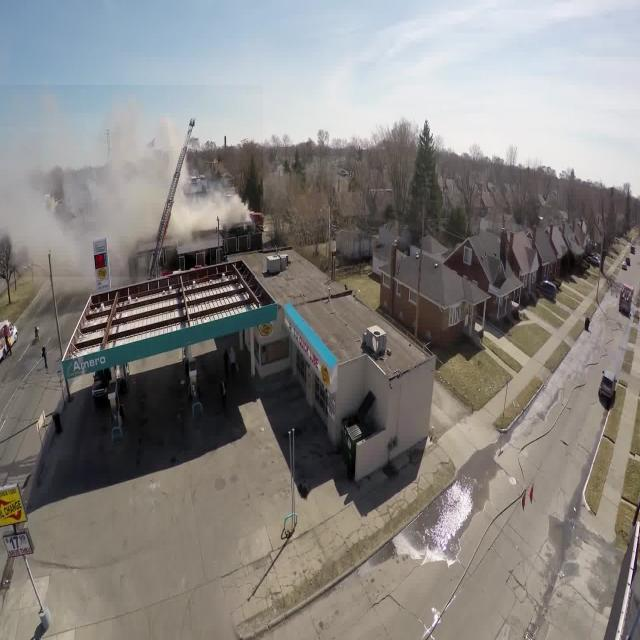Smoke: (0, 85, 263, 278)
